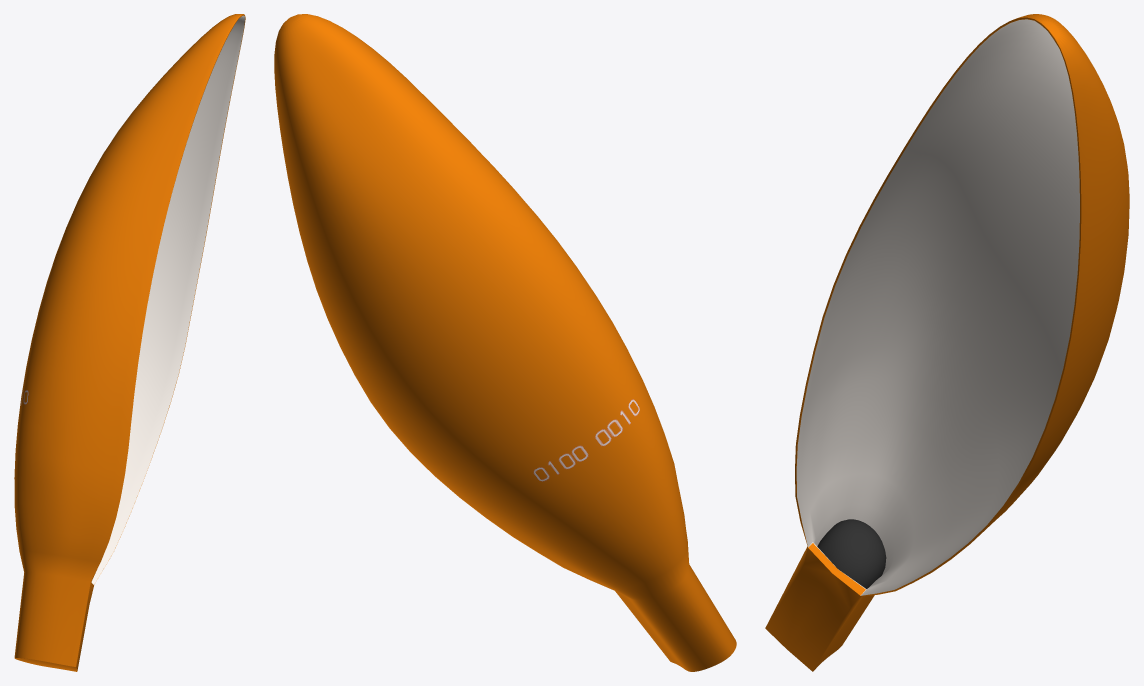
File: l_ear.gltf
The picture shows the model from 3 angles, left to right: view 1: azimuth 30°, elevation 25°; view 2: azimuth 150°, elevation 25°; view 3: azimuth 270°, elevation 25°; orthographic projection. The views are drawn at different scales.
Parts seen in each view (by area): view 1: Sphere019; view 2: Sphere019; view 3: Sphere019.
Part boxes in pixels (x1=…): Sphere019: x1=14, y1=14, x2=245, y2=671; Sphere019: x1=274, y1=14, x2=736, y2=671; Sphere019: x1=765, y1=14, x2=1129, y2=671.
Size of the model in its own units: 4.91 by 8.29 by 3.31.
Materials: 3 (3 with a texture image).
